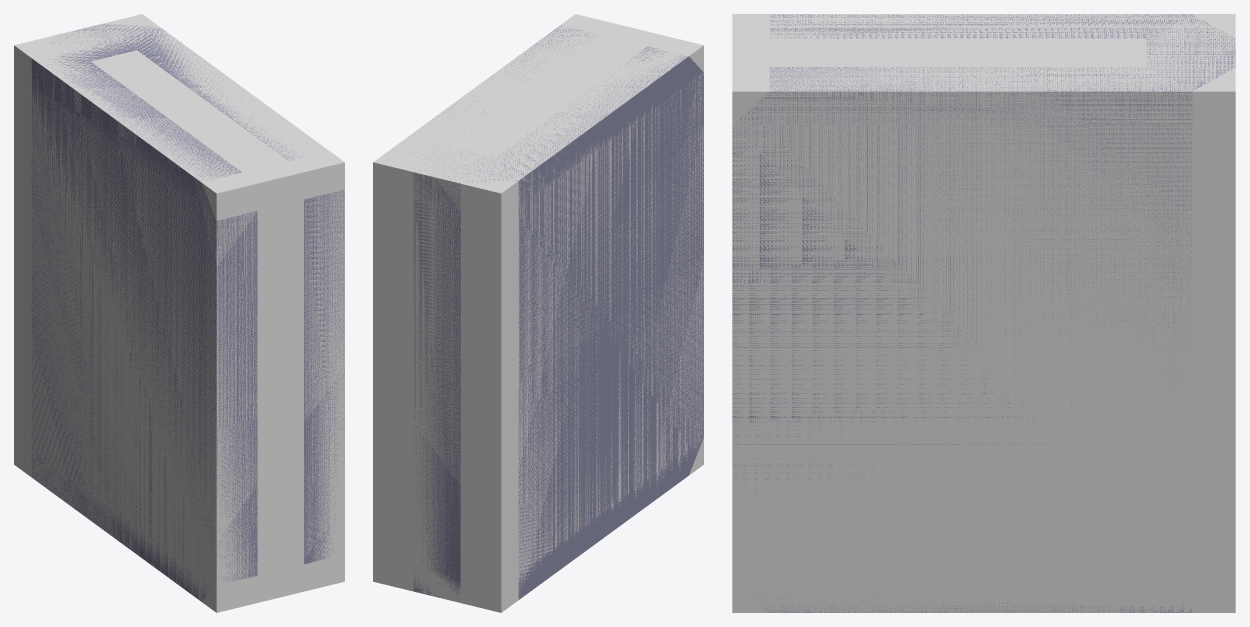
Rendered from Book.fbx.
3 views of the same model, side by side, from view 1: azimuth 30°, elevation 25°; view 2: azimuth 150°, elevation 25°; view 3: azimuth 270°, elevation 25° (orthographic). The views are drawn at different scales.
Visible parts, largest first — view 1: Book_COL0, Book_LOD0; view 2: Book_COL0, Book_LOD0; view 3: Book_COL0, Book_LOD0.
Boxes of the visible parts, x1,y1,x2,y2 form: Book_COL0: [14, 14, 344, 612]; Book_LOD0: [31, 24, 344, 601]; Book_COL0: [373, 14, 703, 612]; Book_LOD0: [400, 26, 703, 599]; Book_COL0: [732, 14, 1235, 612]; Book_LOD0: [732, 14, 1235, 612].
Size of what is drawn, in the model's own units: 0.8 by 2.5 by 2.19.
